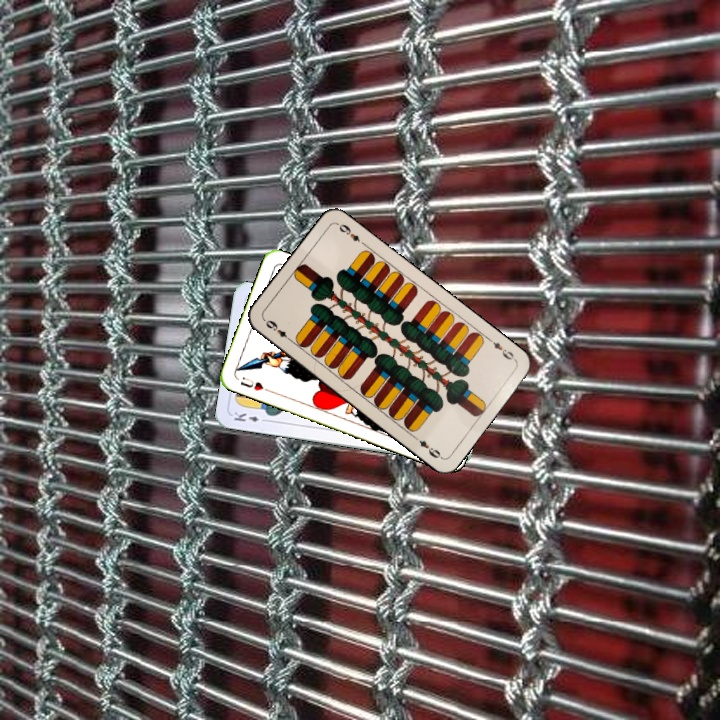E9: (484, 334, 519, 364), (260, 316, 295, 345)
EK: (230, 408, 270, 424)
HU: (236, 373, 273, 395)
